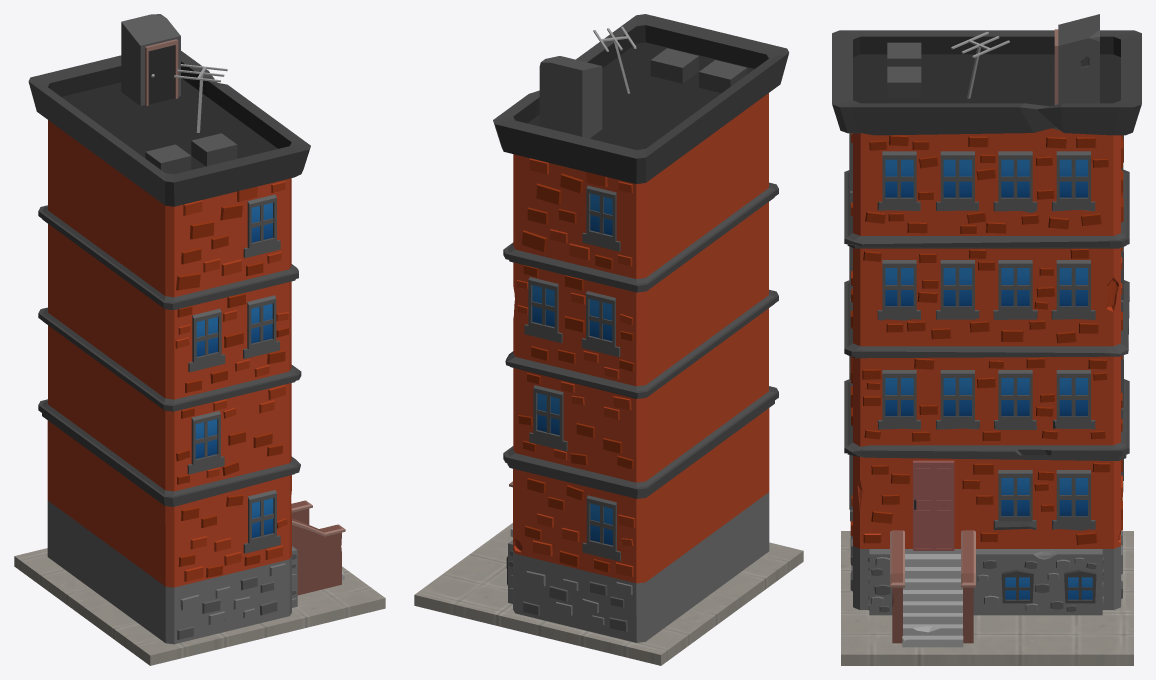
The model's file is House_08.fbx.
3 views of the same model, side by side, from view 1: azimuth 30°, elevation 25°; view 2: azimuth 150°, elevation 25°; view 3: azimuth 270°, elevation 25° (orthographic). The views are drawn at different scales.
Parts seen in each view (by area): view 1: House_08; view 2: House_08; view 3: House_08.
Part boxes in pixels (x1,y1,x2,y2): House_08: (14, 14, 385, 665); House_08: (414, 14, 803, 665); House_08: (832, 14, 1141, 665).
Size of the model in its own units: 1200 by 2603 by 1269.
